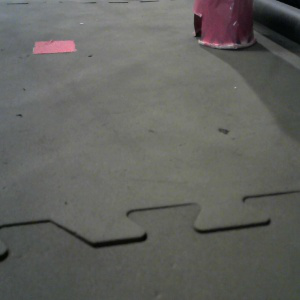Right: (192, 1, 255, 51)
